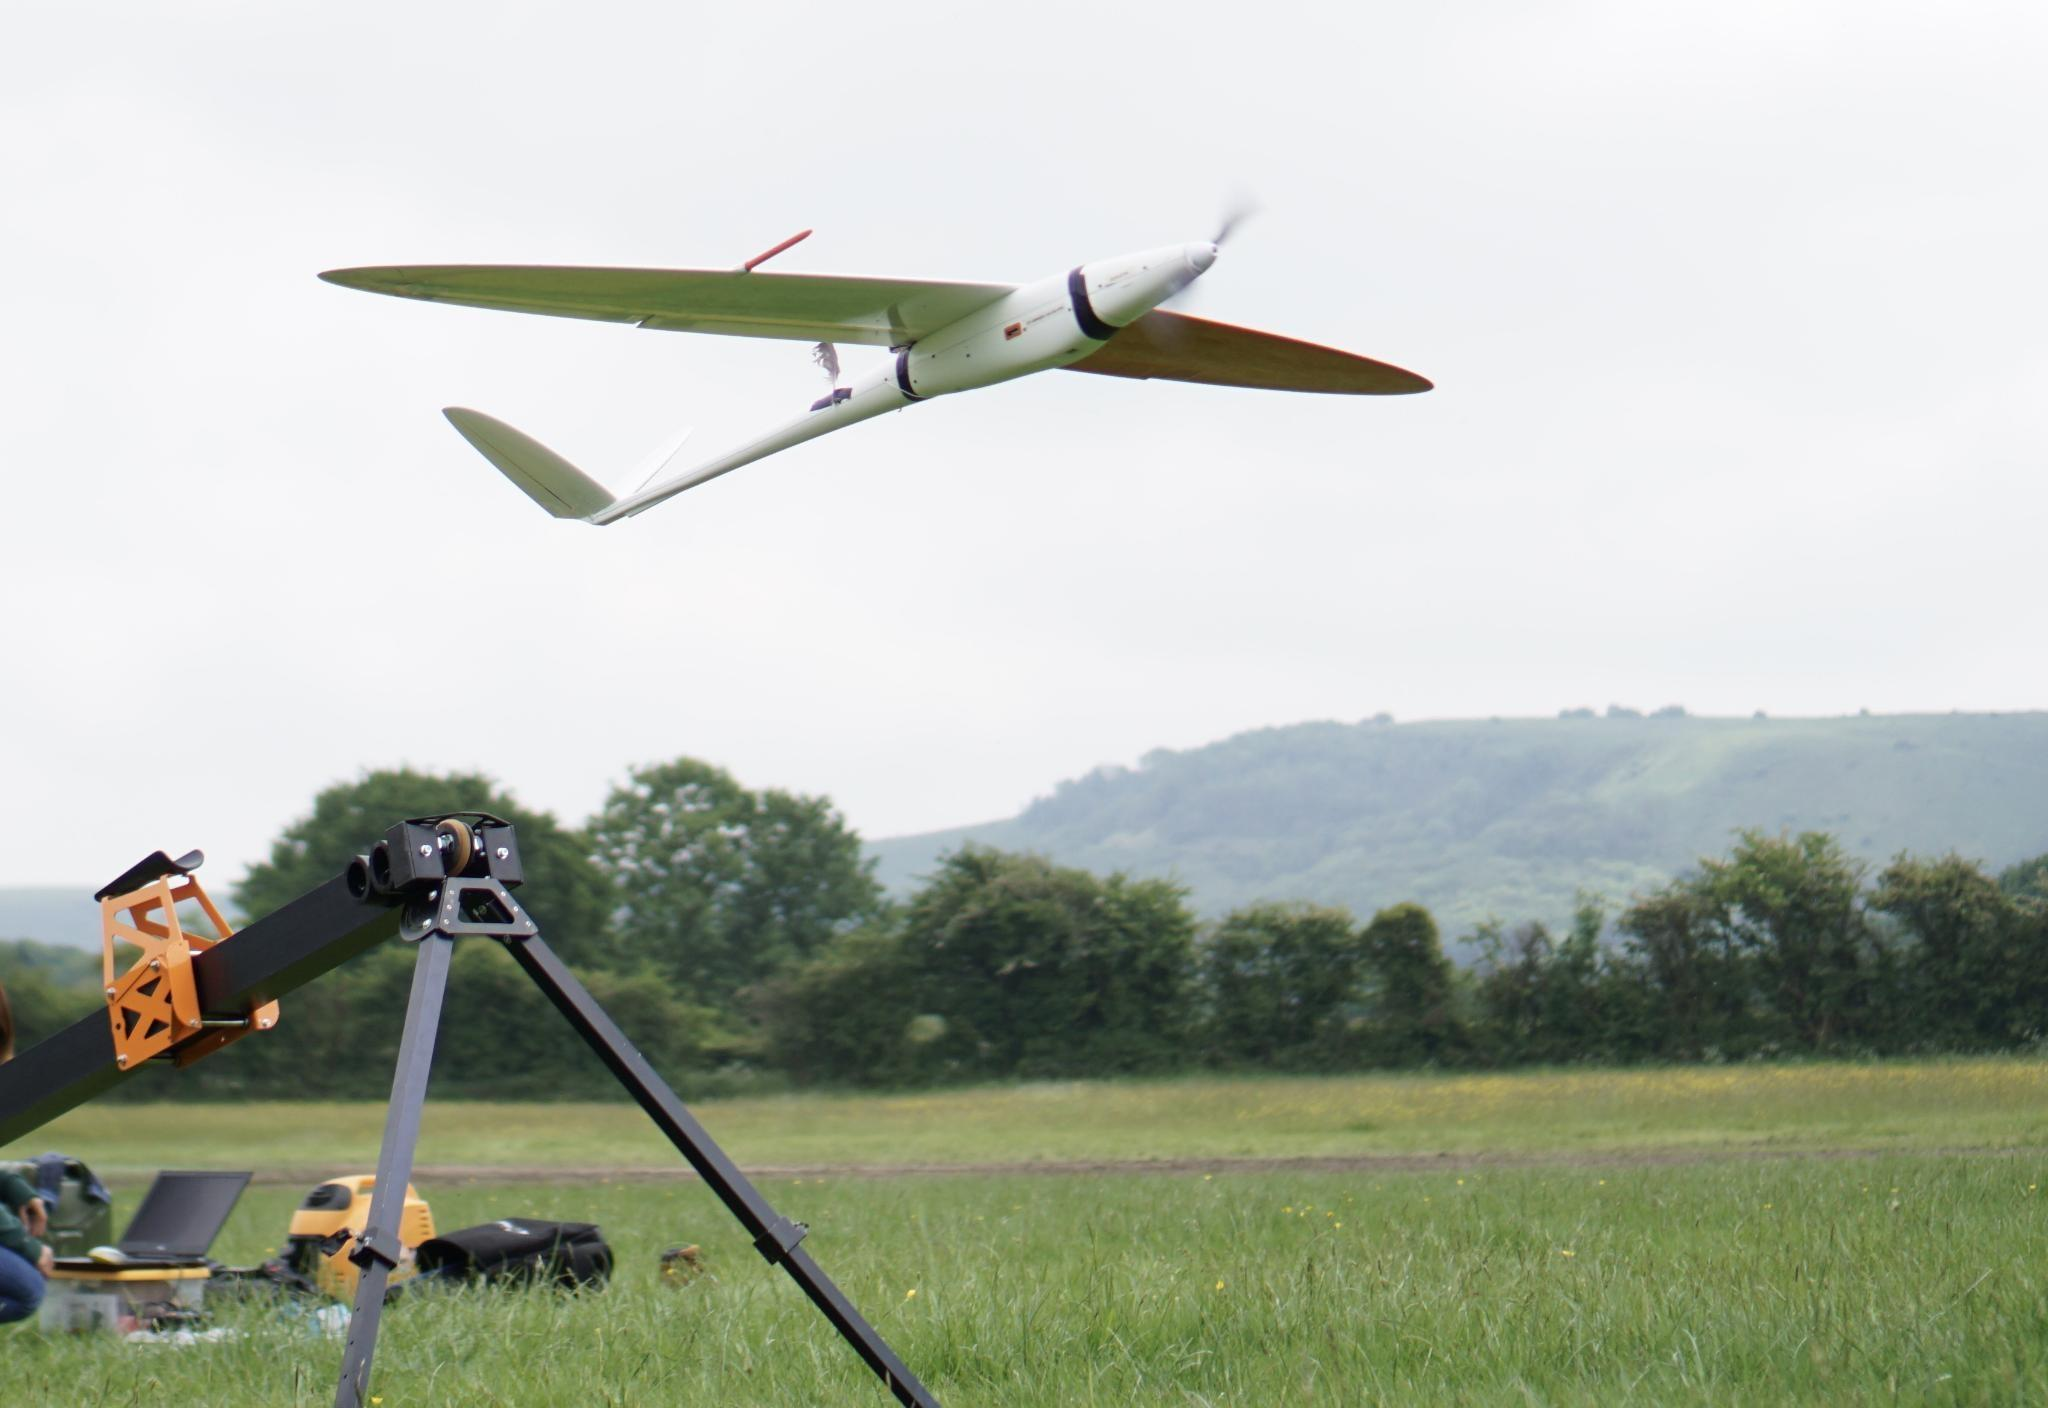Airplane: (279, 159, 1541, 569)
